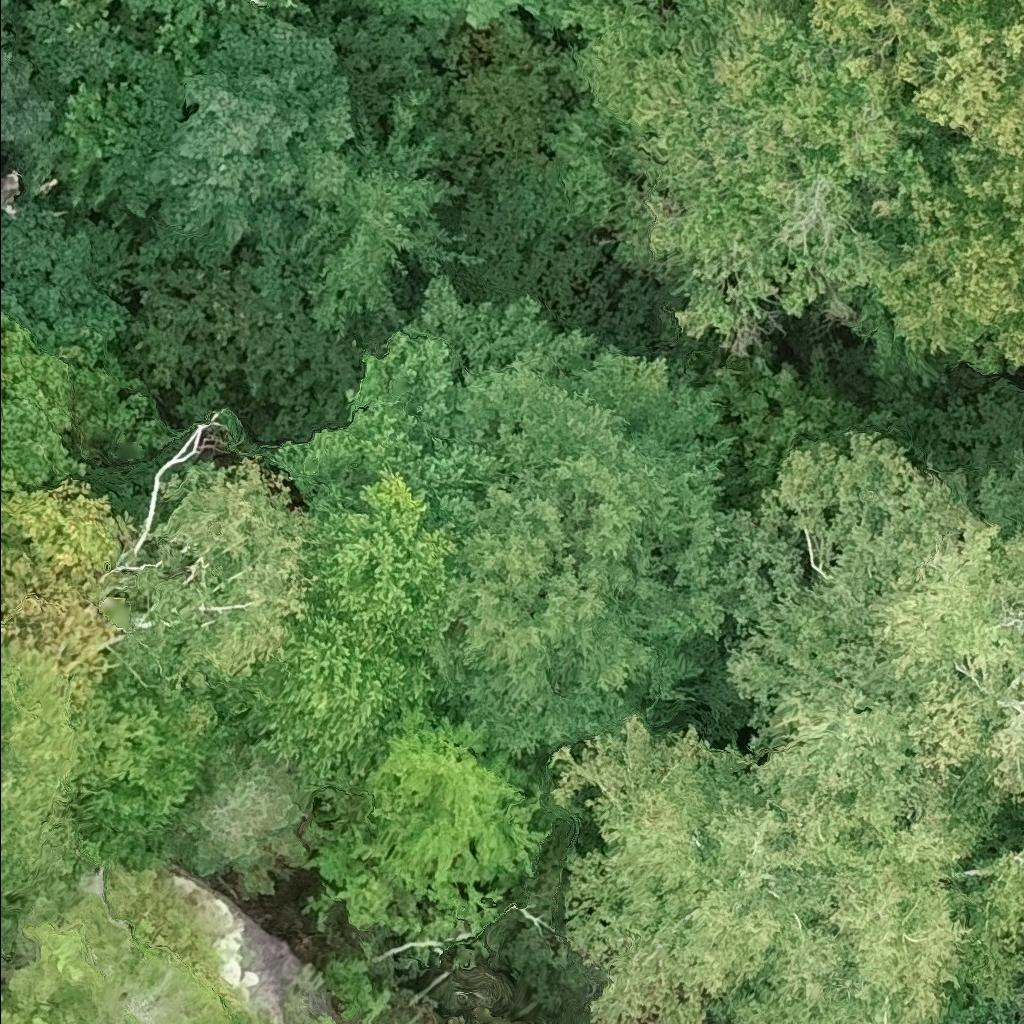crown: (259, 272, 808, 767), (547, 0, 942, 354), (544, 715, 979, 1023), (721, 428, 1023, 861), (218, 460, 459, 801), (805, 0, 1023, 375), (319, 700, 556, 928), (122, 452, 309, 696), (145, 63, 360, 257), (167, 741, 319, 897), (962, 851, 1023, 1000), (371, 0, 567, 30)
